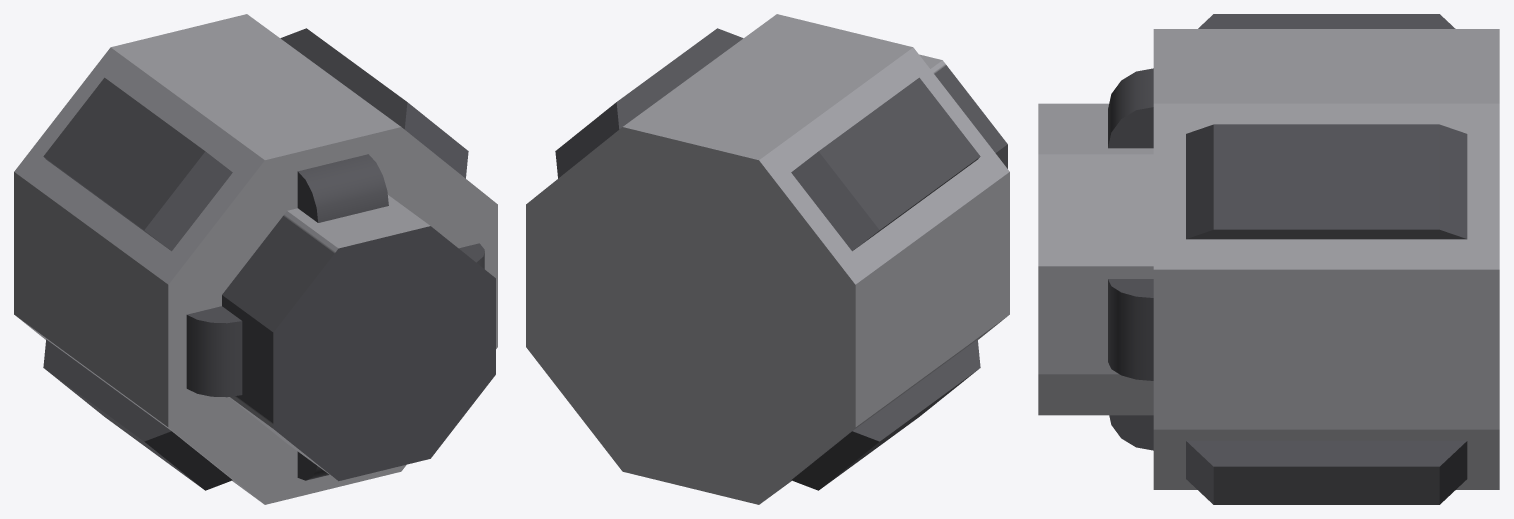
The model's file is model_engine_housing.gltf.
3 renders of one model, left to right at view 1: azimuth 30°, elevation 25°; view 2: azimuth 150°, elevation 25°; view 3: azimuth 270°, elevation 25°, orthographic. The views are drawn at different scales.
Visible parts, largest first — view 1: model_engine_housing; view 2: model_engine_housing; view 3: model_engine_housing.
Boxes of the visible parts, <box> form: model_engine_housing: <box>14,14,497,504</box>; model_engine_housing: <box>526,14,1009,504</box>; model_engine_housing: <box>1038,14,1499,504</box>.
Size of the model in its own units: 0.9239 by 0.9239 by 1.
1 material, 1 textured.
